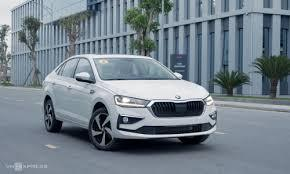skoda: (171, 91, 185, 100)
